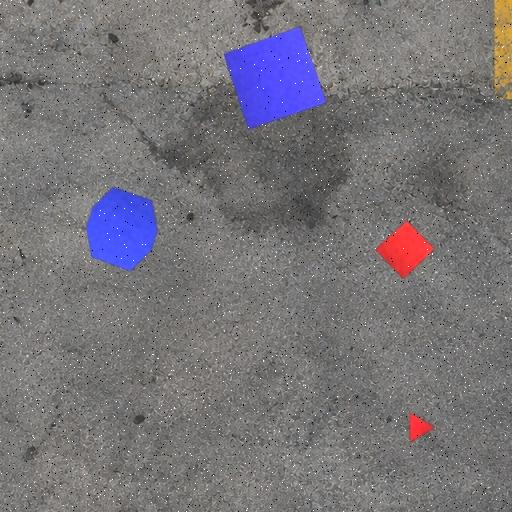BLUE_SQUARE: (222, 26, 328, 130)
RED_SQUARE: (374, 220, 436, 279)
